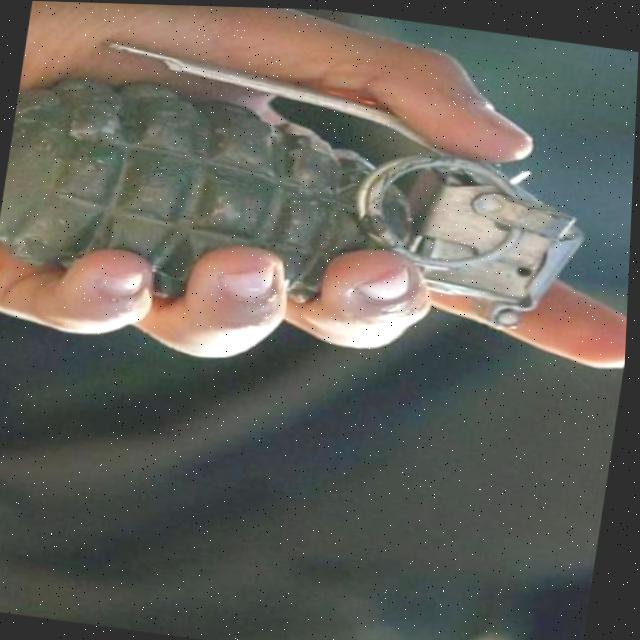grenade: (0, 23, 623, 354)
